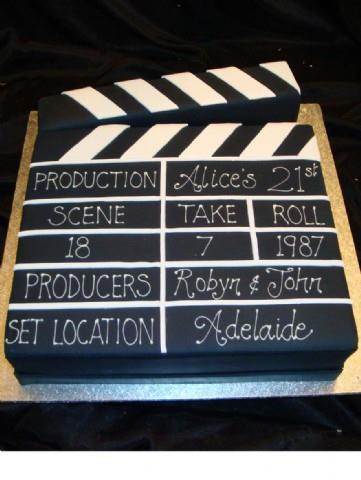clapperboard: (41, 63, 343, 366)
